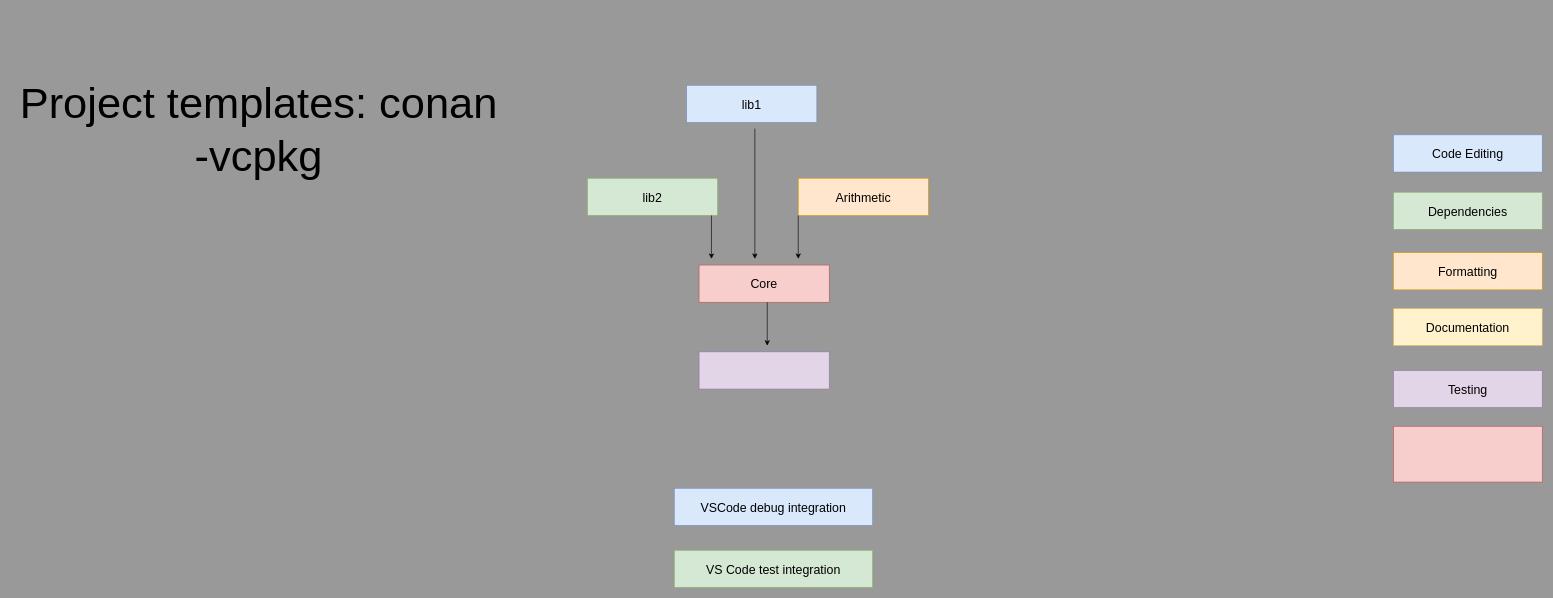
The diagram is 1553 pixels wide and 598 high, and some of its shapes have lost their labels. The centre of each missing label's shape, as x and y in pixels:
"Editor Integration(VS Code, CLion, Visual Studio)" goes at (x=1467, y=454).
"main(rooster target)" goes at (x=763, y=370).
